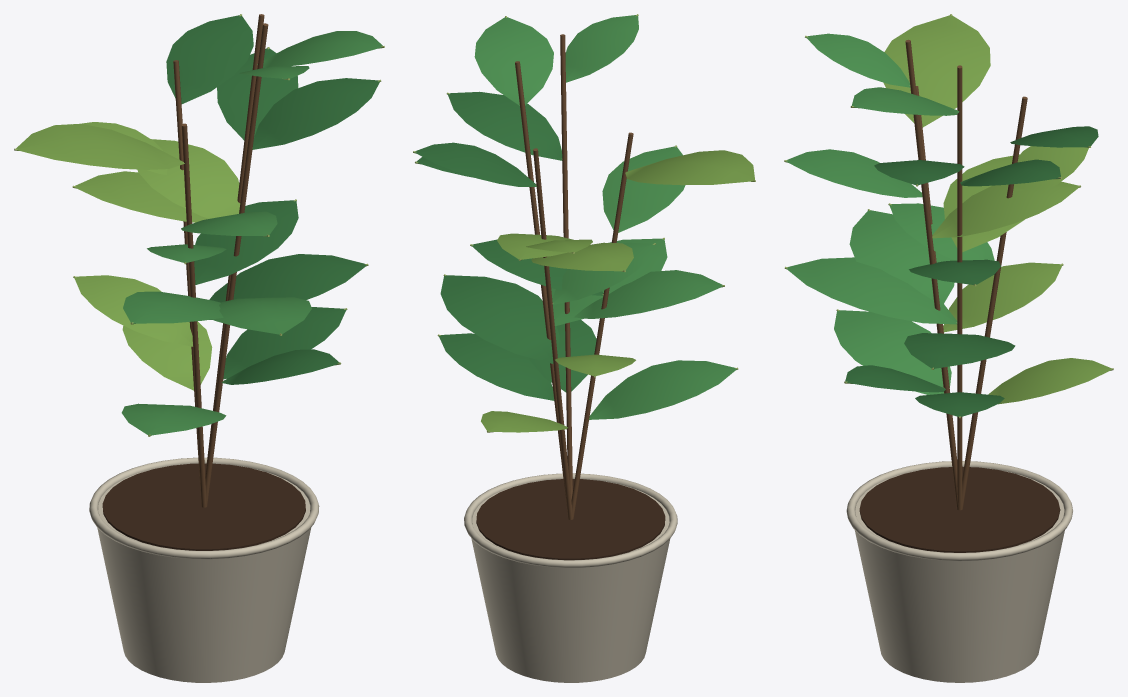
Rendered from low-table-plant.glb.
3 views of the same model, side by side, from view 1: azimuth 30°, elevation 25°; view 2: azimuth 150°, elevation 25°; view 3: azimuth 270°, elevation 25° (orthographic). The views are drawn at different scales.
Parts seen in each view (by area): view 1: part::low-table-plant/thrown-ceramic-planter-001, part::low-table-plant/dark-potting-mix-001, part::low-table-plant/folded-broad-leaf-019, part::low-table-plant/folded-broad-leaf-015, part::low-table-plant/folded-broad-leaf-010, part::low-table-plant/folded-broad-leaf-012, part::low-table-plant/folded-broad-leaf-018, part::low-table-plant/planter-rounded-lip-001, part::low-table-plant/folded-broad-leaf-008, part::low-table-plant/folded-broad-leaf-001, part::low-table-plant/folded-broad-leaf-007, part::low-table-plant/folded-broad-leaf-003 (+15 smaller); view 2: part::low-table-plant/thrown-ceramic-planter-001, part::low-table-plant/dark-potting-mix-001, part::low-table-plant/folded-broad-leaf-012, part::low-table-plant/folded-broad-leaf-006, part::low-table-plant/folded-broad-leaf-005, part::low-table-plant/folded-broad-leaf-019, part::low-table-plant/folded-broad-leaf-001, part::low-table-plant/folded-broad-leaf-017, part::low-table-plant/planter-rounded-lip-001, part::low-table-plant/folded-broad-leaf-009, part::low-table-plant/folded-broad-leaf-010, part::low-table-plant/folded-broad-leaf-020 (+14 smaller); view 3: part::low-table-plant/thrown-ceramic-planter-001, part::low-table-plant/dark-potting-mix-001, part::low-table-plant/folded-broad-leaf-010, part::low-table-plant/folded-broad-leaf-002, part::low-table-plant/folded-broad-leaf-006, part::low-table-plant/folded-broad-leaf-017, part::low-table-plant/planter-rounded-lip-001, part::low-table-plant/folded-broad-leaf-018, part::low-table-plant/folded-broad-leaf-007, part::low-table-plant/folded-broad-leaf-009, part::low-table-plant/folded-broad-leaf-011, part::low-table-plant/folded-broad-leaf-012 (+14 smaller).
Part boxes in pixels (left/top/right/bottom): part::low-table-plant/thrown-ceramic-planter-001: left=97, top=464, right=311, bottom=682; part::low-table-plant/dark-potting-mix-001: left=102, top=463, right=305, bottom=550; part::low-table-plant/folded-broad-leaf-019: left=252, top=78, right=379, bottom=149; part::low-table-plant/folded-broad-leaf-015: left=166, top=15, right=253, bottom=103; part::low-table-plant/folded-broad-leaf-010: left=16, top=123, right=184, bottom=169; part::low-table-plant/folded-broad-leaf-012: left=209, top=254, right=366, bottom=319; part::low-table-plant/folded-broad-leaf-018: left=137, top=139, right=240, bottom=218; part::low-table-plant/planter-rounded-lip-001: left=89, top=457, right=319, bottom=559; part::low-table-plant/folded-broad-leaf-008: left=194, top=200, right=298, bottom=284; part::low-table-plant/folded-broad-leaf-001: left=223, top=307, right=346, bottom=379; part::low-table-plant/folded-broad-leaf-007: left=74, top=275, right=192, bottom=346; part::low-table-plant/folded-broad-leaf-003: left=74, top=171, right=209, bottom=222; part::low-table-plant/thrown-ceramic-planter-001: left=471, top=479, right=669, bottom=682; part::low-table-plant/dark-potting-mix-001: left=476, top=479, right=665, bottom=560; part::low-table-plant/folded-broad-leaf-012: left=440, top=275, right=559, bottom=363; part::low-table-plant/folded-broad-leaf-006: left=589, top=360, right=736, bottom=419; part::low-table-plant/folded-broad-leaf-005: left=474, top=17, right=553, bottom=105; part::low-table-plant/folded-broad-leaf-019: left=447, top=91, right=562, bottom=160; part::low-table-plant/folded-broad-leaf-001: left=439, top=333, right=554, bottom=400; part::low-table-plant/folded-broad-leaf-017: left=574, top=270, right=722, bottom=318; part::low-table-plant/planter-rounded-lip-001: left=464, top=473, right=677, bottom=567; part::low-table-plant/folded-broad-leaf-009: left=602, top=146, right=685, bottom=232; part::low-table-plant/folded-broad-leaf-010: left=625, top=150, right=754, bottom=185; part::low-table-plant/folded-broad-leaf-020: left=565, top=15, right=638, bottom=82; part::low-table-plant/thrown-ceramic-planter-001: left=854, top=468, right=1064, bottom=682; part::low-table-plant/dark-potting-mix-001: left=859, top=466, right=1060, bottom=552; part::low-table-plant/folded-broad-leaf-010: left=883, top=15, right=990, bottom=127; part::low-table-plant/folded-broad-leaf-002: left=786, top=257, right=957, bottom=324; part::low-table-plant/folded-broad-leaf-006: left=834, top=310, right=951, bottom=394; part::low-table-plant/folded-broad-leaf-017: left=849, top=210, right=955, bottom=306; part::low-table-plant/planter-rounded-lip-001: left=846, top=461, right=1072, bottom=561; part::low-table-plant/folded-broad-leaf-018: left=932, top=181, right=1079, bottom=238; part::low-table-plant/folded-broad-leaf-007: left=943, top=262, right=1062, bottom=332; part::low-table-plant/folded-broad-leaf-009: left=786, top=149, right=922, bottom=197; part::low-table-plant/folded-broad-leaf-011: left=988, top=358, right=1111, bottom=404; part::low-table-plant/folded-broad-leaf-012: left=904, top=333, right=1015, bottom=368.
Bounding box in the file's own units: 0.2623 × 0.4558 × 0.2177.
